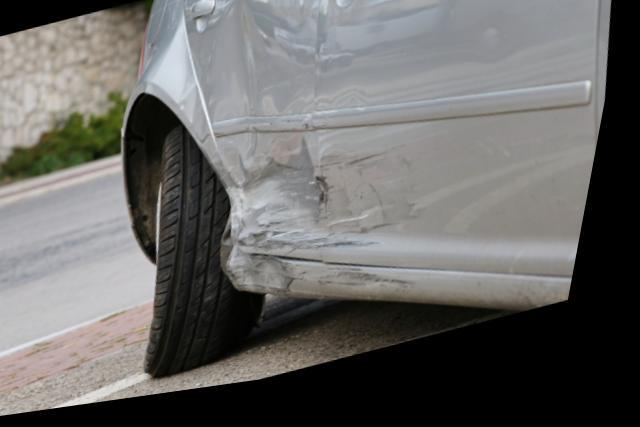dent: (206, 0, 338, 265), (237, 259, 311, 304)
scratch: (323, 160, 435, 269), (327, 273, 424, 316)
